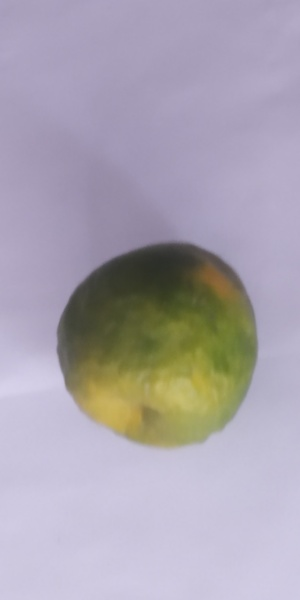BAD: (54, 239, 260, 451)
